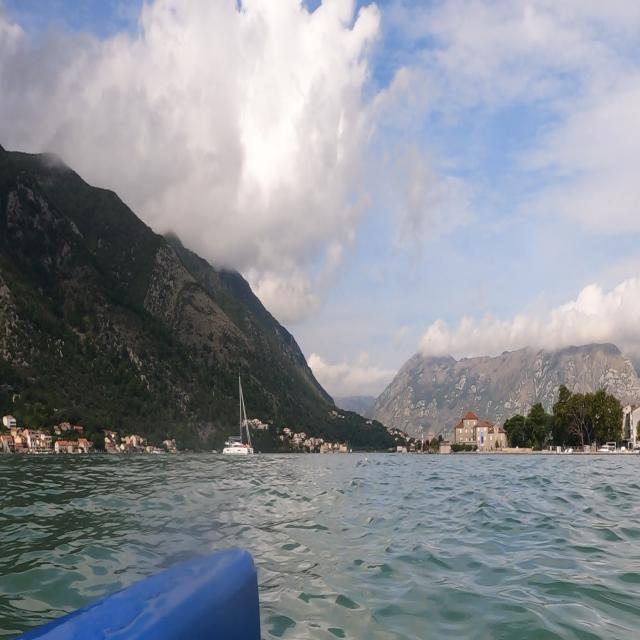boat: (221, 368, 255, 460)
